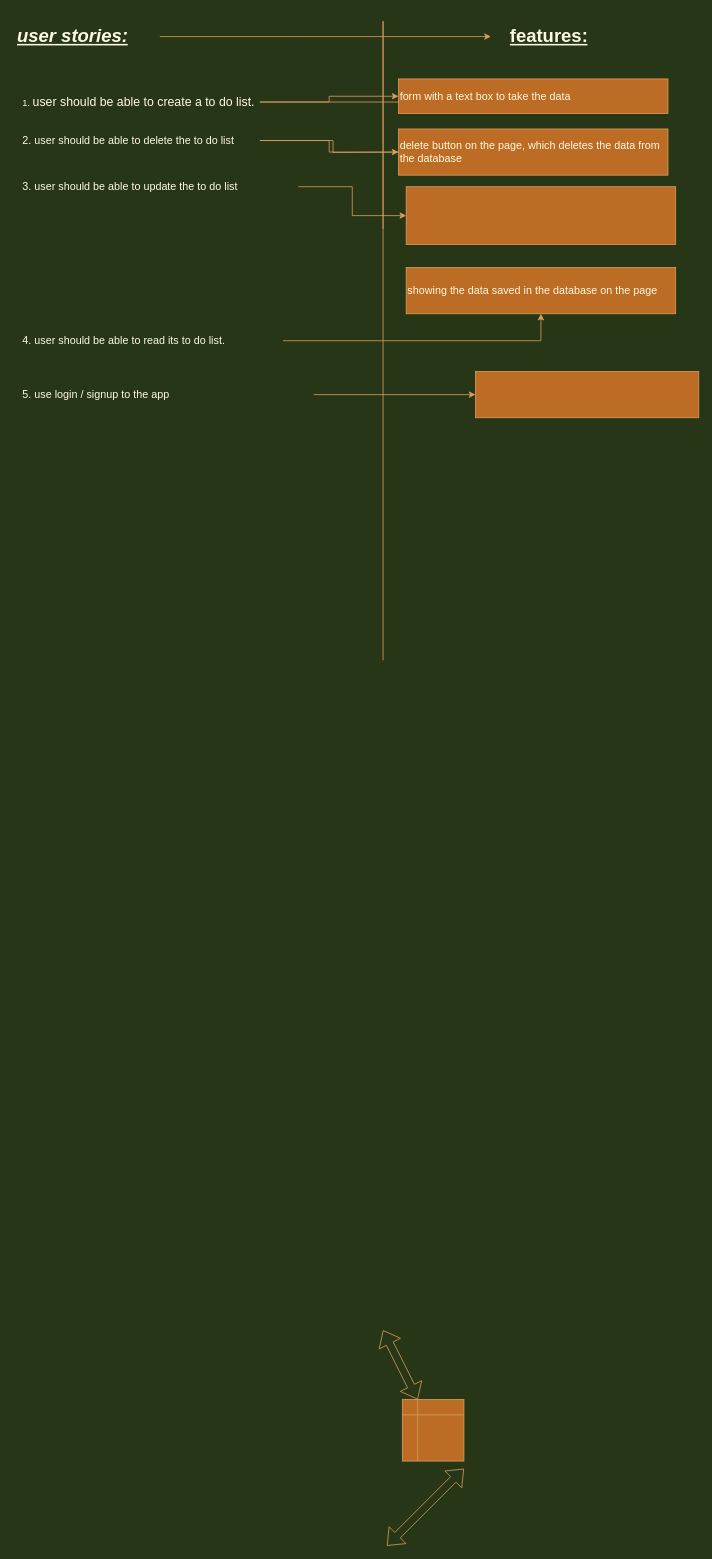
Some shapes in this 712 by 1559 pixel diagram are drawn without their labels. The shapes that lost their labels are listed below. From the top down, each one's centre as x and y in pixels, then its label:
the point at 540,215: update button on page, updating the data from the database
the point at 587,394: signup/login form
